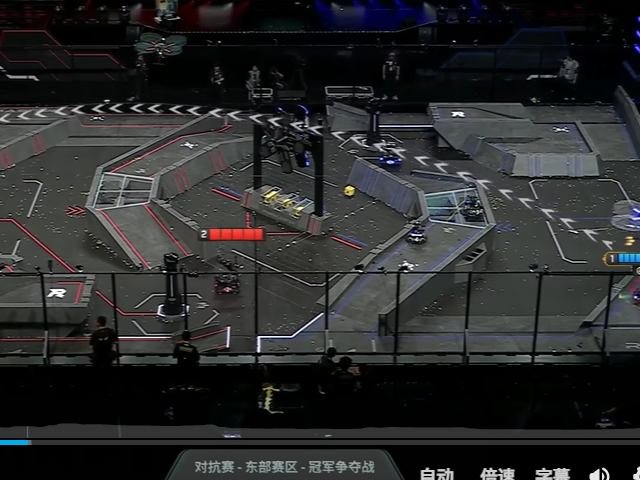rm: (128, 29, 188, 59), (210, 258, 242, 301), (402, 218, 430, 247), (380, 148, 405, 173)
